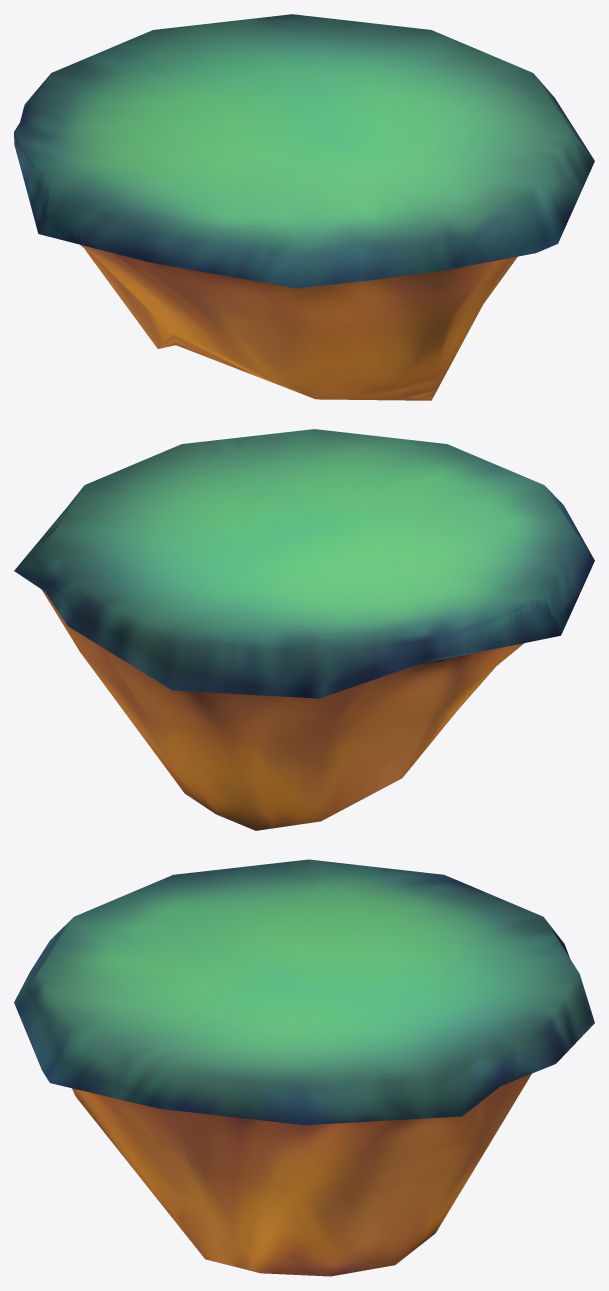
The model's file is Island.gltf.
3 views of the same model, one above another, from view 1: azimuth 30°, elevation 25°; view 2: azimuth 150°, elevation 25°; view 3: azimuth 270°, elevation 25° (orthographic). The views are drawn at different scales.
Visible parts, largest first — view 1: Cylinder.001; view 2: Cylinder.001; view 3: Cylinder.001.
Part boxes in pixels (x1,y1,x2,y2): Cylinder.001: [14, 14, 594, 400]; Cylinder.001: [14, 429, 594, 830]; Cylinder.001: [14, 859, 594, 1276].
Size of the model in its own units: 19.66 by 9.25 by 19.66.
Materials: 1 (1 with a texture image).
